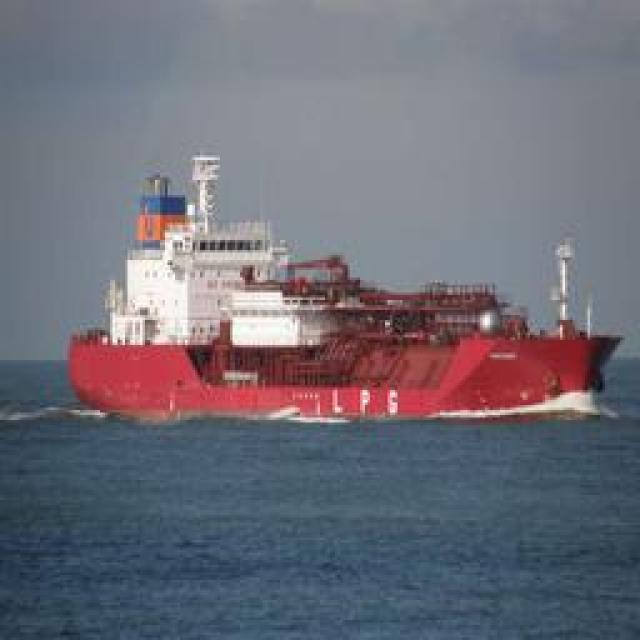Ship: (71, 194, 616, 419)
